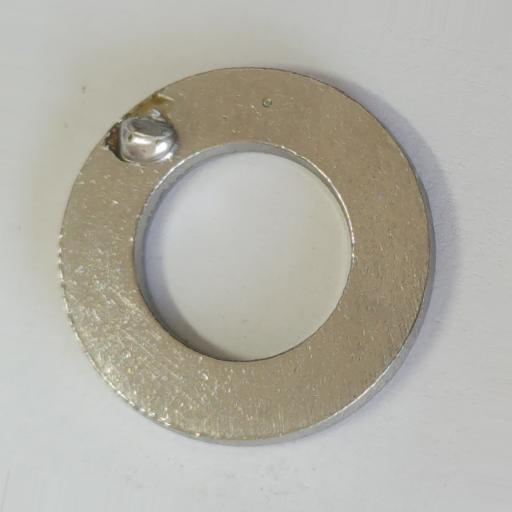excess_material: (116, 108, 177, 164)
